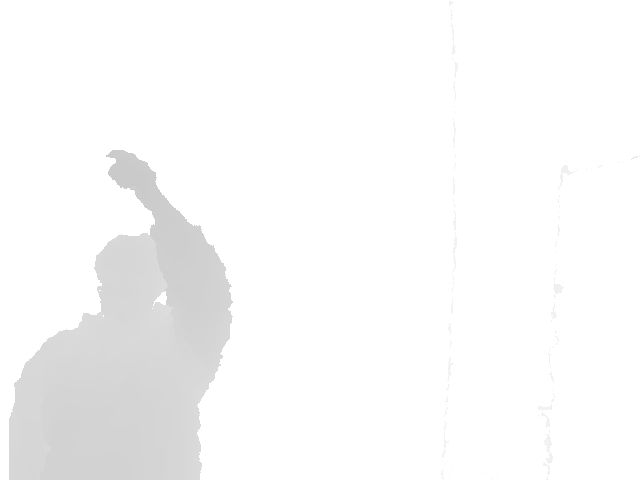hand: (103, 148, 180, 210)
head: (94, 232, 170, 317)
person: (8, 148, 235, 480)
